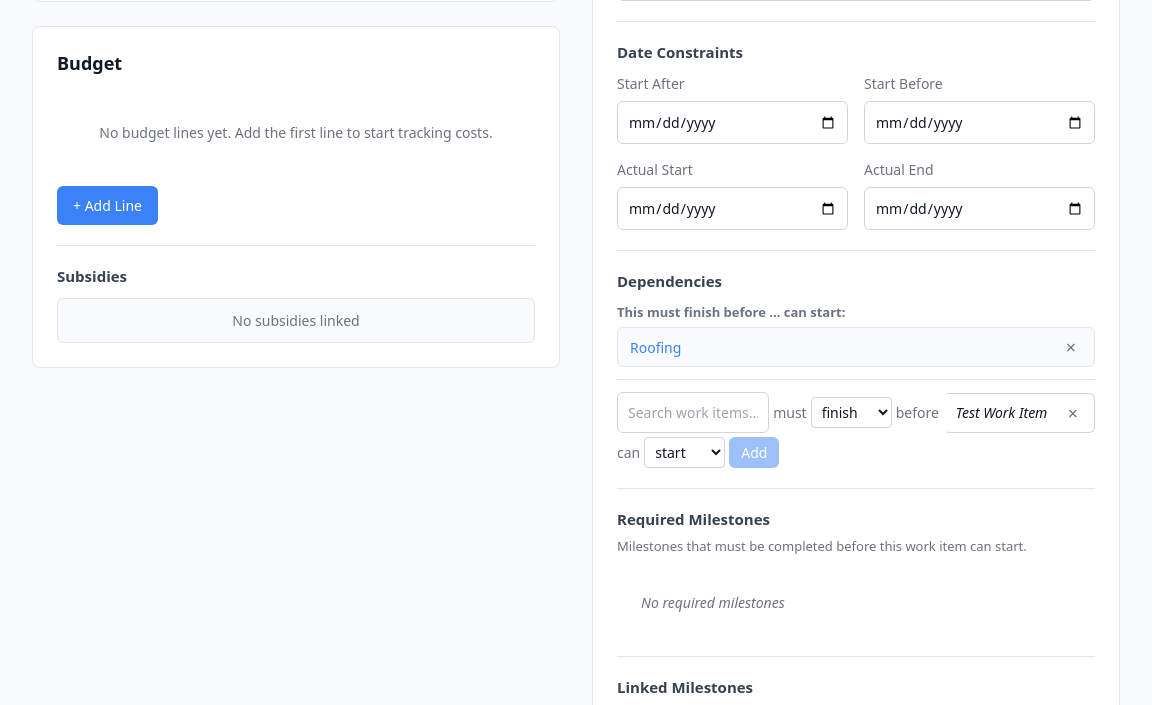
Test: WorkItemDetailPage › modals and action labels (Issue #1812) › opens the remove-dependency modal with the successor sentence
(page scrolled)
Expected: the link "Roofing" is shown, [630,338,681,356]
Click the button named "Remove dependency on Roofing" at coordinates (1071, 347), box [1060,336,1082,358]
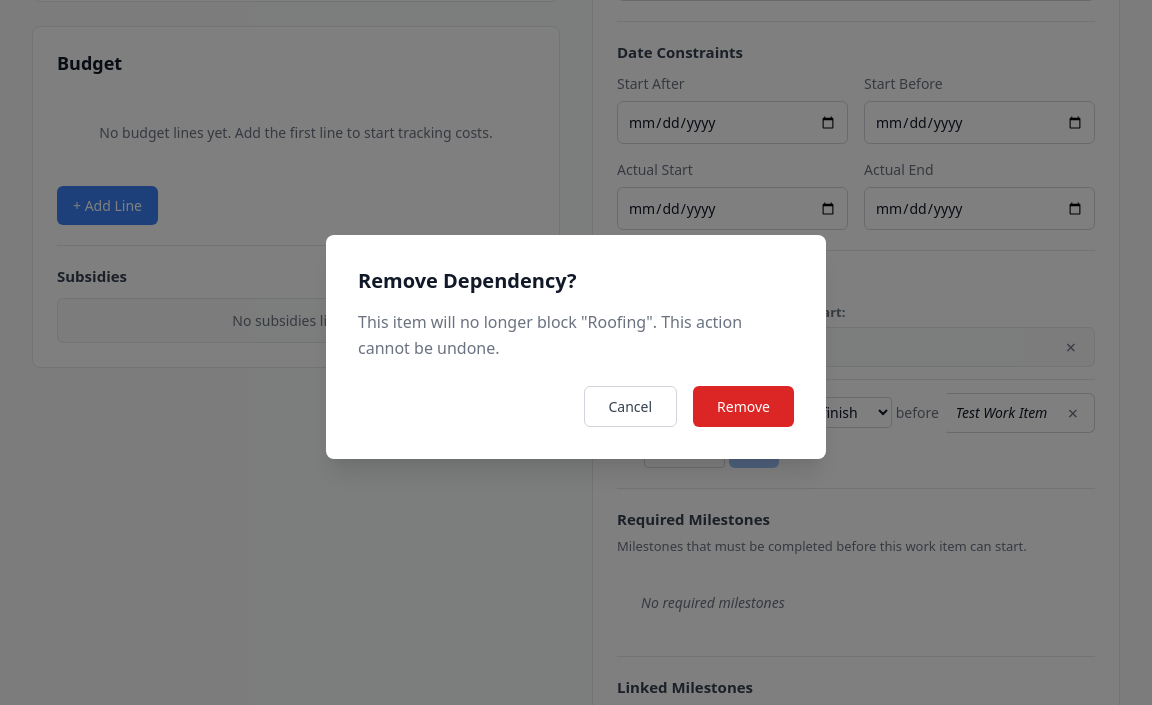
Expected: the heading "Remove Dependency?" is shown, [358,267,576,294]
Expected: the text "This action cannot be undone." is shown once, [358,310,794,362]
